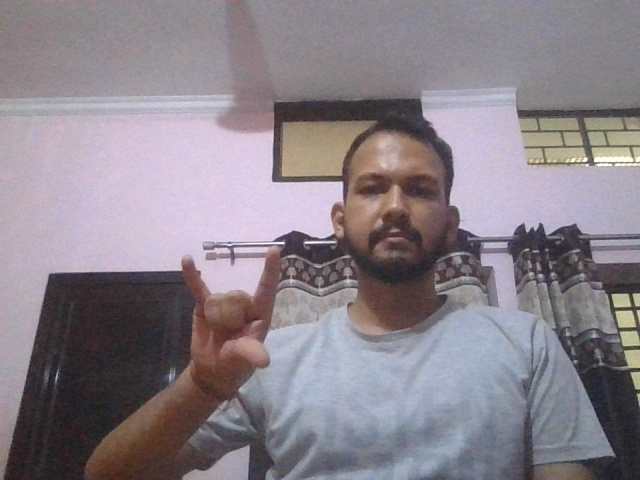iloveyou: (180, 246, 282, 397)
